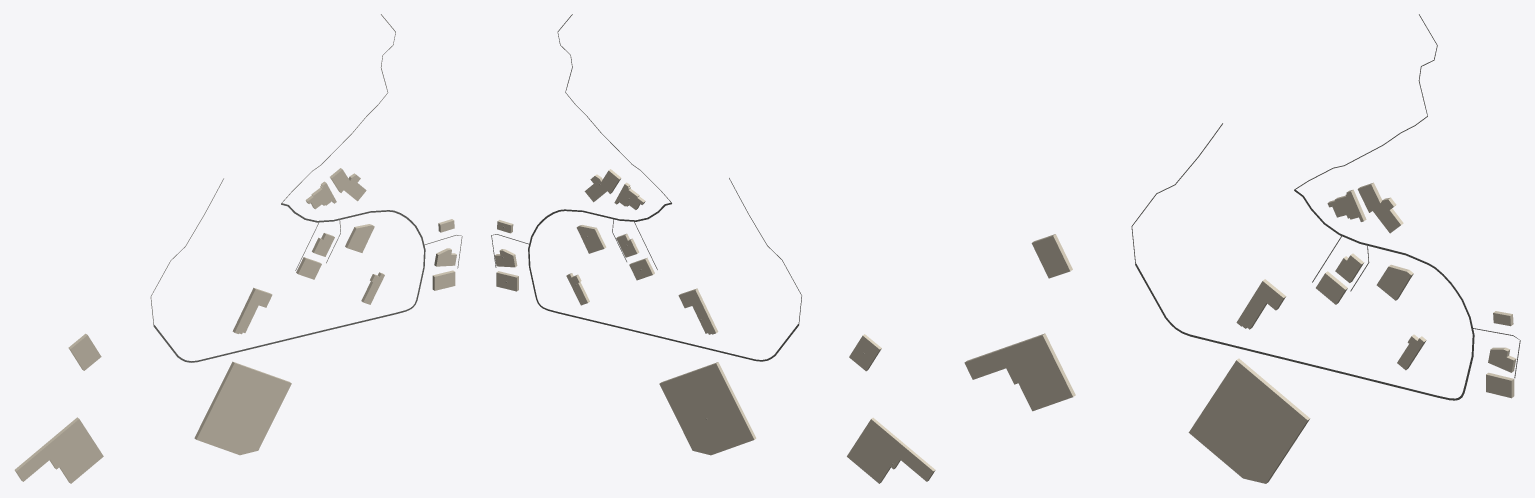
Rendered from historic-palestine-11_35_3534_3292.glb.
3 renders of one model, left to right at view 1: azimuth 30°, elevation 25°; view 2: azimuth 150°, elevation 25°; view 3: azimuth 330°, elevation 25°, orthographic. The views are drawn at different scales.
Visible parts, largest first — view 1: Building_.006, Building_.012, Building_.007, Building_, Building_.001, Road גזית, Building_.002, Road בזלת; view 2: Building_.006, Building_.012, Building_.007, Building_, Building_.001, Road גזית, Building_.002, Road בזלת; view 3: Building_.006, Building_.012, Building_.007, Building_, Building_.001, Road גזית, Building_.002, Road בזלת, Building_.011, Building_.008, Building_.005.
Part boxes in pixels (x1,y1,x2,y2): Building_.006: (194,361,291,455); Building_.012: (14,417,103,483); Building_.007: (232,287,272,334); Building_: (68,333,101,370); Building_.001: (330,168,366,201); Road גזית: (153,308,410,362); Building_.002: (345,224,374,252); Road בזלת: (281,203,425,308); Building_.006: (659,362,756,455); Building_.012: (847,417,935,483); Building_.007: (678,288,718,334); Building_: (849,334,881,371); Building_.001: (584,169,621,202); Road גזית: (543,307,798,361); Building_.002: (576,225,606,253); Road בזלת: (528,202,671,308); Building_.006: (1188,358,1310,483); Building_.012: (964,333,1075,411); Building_.007: (1236,279,1286,329); Building_: (1031,234,1072,278); Building_.001: (1357,182,1403,233); Road גזית: (1135,263,1455,400); Building_.002: (1376,264,1413,300); Road בזלת: (1294,189,1474,400); Building_.011: (1327,189,1366,221); Building_.008: (1316,271,1347,304); Building_.005: (1486,372,1514,398).
Bounding box in the file's own units: 917 × 799 × 8.7.
